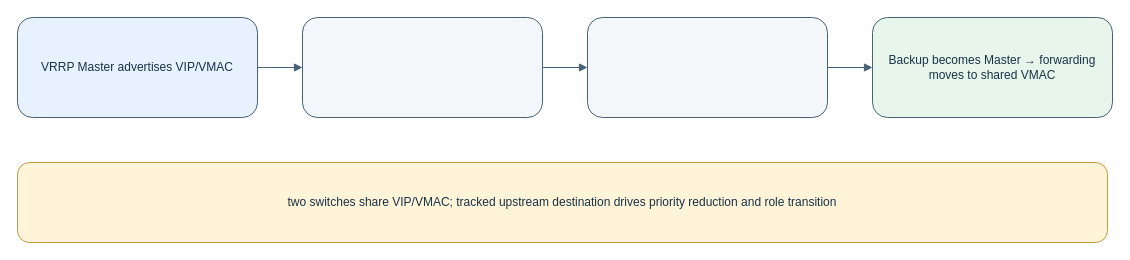
Image size: 1130x260. Some labels were removed from this diagram. The box of each missing label's shape, as (x1, y1, x2, y2) in pixels:
loss changes priority to zero: (586, 16, 828, 118)
route to tracked destination evaluated: (302, 16, 542, 118)
